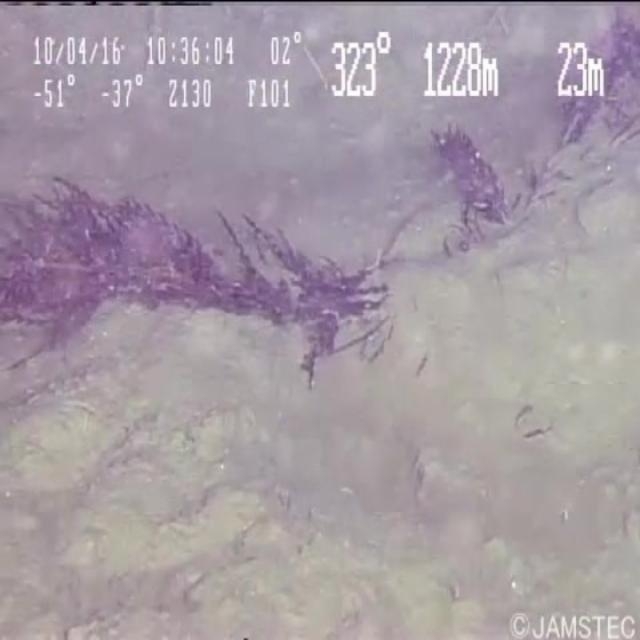Natual-Debris: (0, 141, 403, 391), (375, 7, 636, 315)
